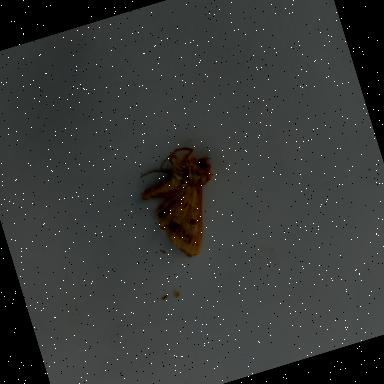abw: (126, 138, 239, 270)
